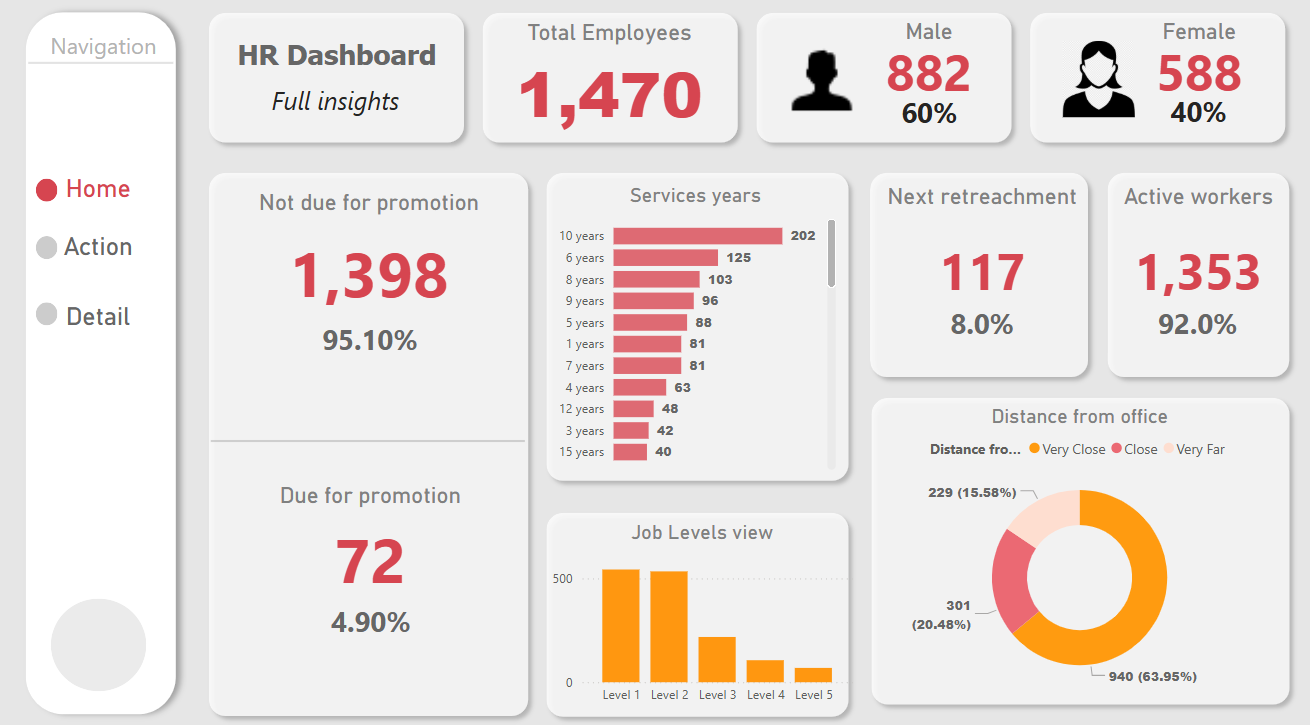

The page's visual inventory and layout, read from the dashboard file:
{"tool":"powerbi","page":{"name":"Home","canvas":[1280,720],"ordinal":0},"visuals":[{"type":"shape","box":[16.5,9.6,166.5,699.2],"z":0},{"type":"shape","box":[195.4,12.4,264.3,143.1],"z":1000},{"type":"shape","box":[459.7,12.4,264.3,143.1],"z":2000},{"type":"shape","box":[724,12.4,264.3,143.1],"z":3000},{"type":"shape","box":[988.2,12.4,264.3,143.1],"z":4000},{"type":"shape","box":[195.4,166.5,326.2,542.3],"z":5000},{"type":"shape","box":[521.6,166.2,309.7,315.2],"z":6000},{"type":"shape","box":[521.6,494.1,309.7,214.7],"z":7000},{"type":"shape","box":[834.8,384.2,421.6,314.1],"z":8000},{"type":"shape","box":[833.6,166.7,228.3,215],"z":9000},{"type":"shape","box":[1063.1,166.7,193.3,215],"z":10000},{"type":"textbox","box":[208.3,40,238.3,51.7],"z":11000},{"type":"textbox","box":[36.9,33,130.5,51.4],"z":12000},{"type":"textbox","box":[203.3,85,251.7,55],"z":13000},{"type":"card","title":"Total Employees","fields":{"Values":["All Measures.Total Emp"]},"box":[468,27.5,246.4,112.9],"z":15000},{"type":"card","title":"Male","fields":{"Values":["All Measures.Male"]},"box":[814.8,26.2,170.7,75.7],"z":16000},{"type":"card","fields":{"Values":["All Measures.Male %"]},"box":[834.1,90.8,132.1,55.1],"z":17000},{"type":"card","title":"Female","fields":{"Values":["All Measures.Female"]},"box":[1068.7,26.2,183.1,75.7],"z":18000},{"type":"card","fields":{"Values":["All Measures.Female %"]},"box":[1083.9,90.8,152.8,53.7],"z":19000},{"type":"image","box":[748.3,38.3,95,90],"z":20000},{"type":"actionButton","title":"Home","box":[27.8,176.4,140.1,30.2],"z":21000},{"type":"image","box":[1023.3,43.3,80,83.3],"z":22000},{"type":"actionButton","title":"Action","box":[27.7,233.4,139.8,56.7],"z":23000},{"type":"card","title":"Active workers","fields":{"Values":["All Measures.On service"]},"box":[1058.3,186,203,142.6],"z":24000},{"type":"actionButton","title":"Detail","box":[27.7,300.7,139.8,58],"z":25000},{"type":"card","fields":{"Values":["All Measures.% Active workers"]},"box":[1082.4,296,153.4,53.2],"z":26000},{"type":"card","title":"Next retreachment","fields":{"Values":["All Measures.Due for retirment"]},"box":[843.2,186,215,142.6],"z":27000},{"type":"card","fields":{"Values":["All Measures.%Due for retirment"]},"box":[865,296,171.5,53.2],"z":28000},{"type":"columnChart","title":"Job Levels view","fields":{"Category":["HR Analytics Data.Job Level"],"Y":["All Measures.Total Emp"]},"box":[531.3,512,300,185.8],"z":29000},{"type":"barChart","title":"Services years","fields":{"Category":["HR Analytics Data.Total working Years"],"Y":["All Measures.Total Emp"]},"box":[532.9,185.7,281.4,281.4],"z":30000},{"type":"donutChart","title":"Distance from office","fields":{"Category":["HR Analytics Data.Distance from office"],"Y":["All Measures.Total Emp"]},"box":[840.8,399.9,408.3,282.7],"z":31000},{"type":"card","title":"Not due for promotion","fields":{"Values":["All Measures.Not Due"]},"box":[207.8,192.1,303.2,130.5],"z":32000},{"type":"card","title":"Due for promotion","fields":{"Values":["All Measures.Due for promotion"]},"box":[209,473.8,303.2,119.6],"z":33000},{"type":"shape","box":[206.6,427.7,303.2,14.5],"z":34000},{"type":"card","fields":{"Values":["All Measures.% Not due for promotion"]},"box":[283.5,309.7,152.8,53.7],"z":35000},{"type":"card","fields":{"Values":["All Measures.% Due for promotion"]},"box":[285.1,582.5,152.2,53.2],"z":36000},{"type":"shape","box":[36.9,180.7,21.1,22.4],"z":37000},{"type":"shape","box":[36.9,236,21.1,22.4],"z":38000},{"type":"shape","box":[36.9,300.7,21.1,22.4],"z":39000},{"type":"shape","box":[51.4,586.8,92.3,89.7],"z":40000},{"type":"shape","box":[30.2,61.6,140.1,15.7],"z":41000}]}

Visuals, with their boxes in screenshot pixels (x1, y1, x2, y2), scaled from the page's 1280x720 canvas onto the 1310x725 screenshot:
shape: 17,10,187,714
shape: 200,12,470,157
shape: 470,12,741,157
shape: 741,12,1011,157
shape: 1011,12,1282,157
shape: 200,168,534,714
shape: 534,167,851,485
shape: 534,498,851,714
shape: 854,387,1286,703
shape: 853,168,1087,384
shape: 1088,168,1286,384
textbox: 213,40,457,92
textbox: 38,33,171,85
textbox: 208,86,466,141
"Total Employees" card: 479,28,731,141
"Male" card: 834,26,1009,103
card - All Measures.Male %: 854,91,989,147
"Female" card: 1094,26,1281,103
card - All Measures.Female %: 1109,91,1266,146
image: 766,39,863,129
"Home" actionButton: 28,178,172,208
image: 1047,44,1129,127
"Action" actionButton: 28,235,171,292
"Active workers" card: 1083,187,1291,331
"Detail" actionButton: 28,303,171,361
card - All Measures.% Active workers: 1108,298,1265,352
"Next retreachment" card: 863,187,1083,331
card - All Measures.%Due for retirment: 885,298,1061,352
"Job Levels view" columnChart: 544,516,851,703
"Services years" barChart: 545,187,833,470
"Distance from office" donutChart: 861,403,1278,687
"Not due for promotion" card: 213,193,523,325
"Due for promotion" card: 214,477,524,598
shape: 211,431,522,445
card - All Measures.% Not due for promotion: 290,312,447,366
card - All Measures.% Due for promotion: 292,587,448,640
shape: 38,182,59,205
shape: 38,238,59,260
shape: 38,303,59,325
shape: 53,591,147,681
shape: 31,62,174,78
